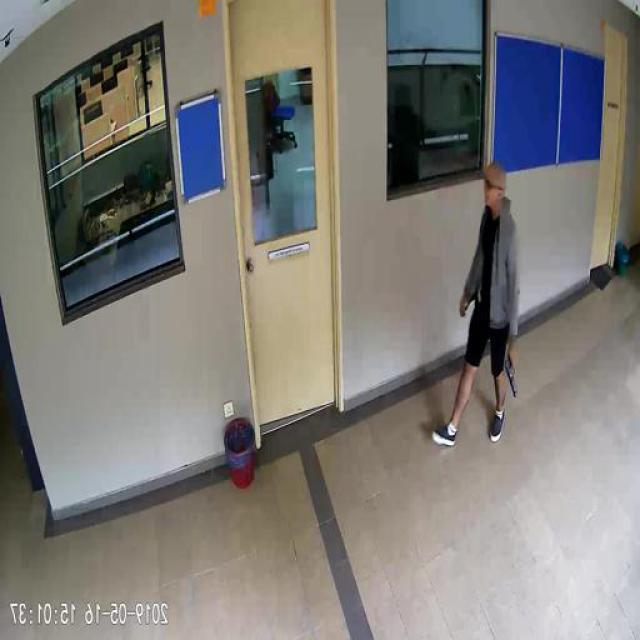Gun: (508, 348, 520, 397)
